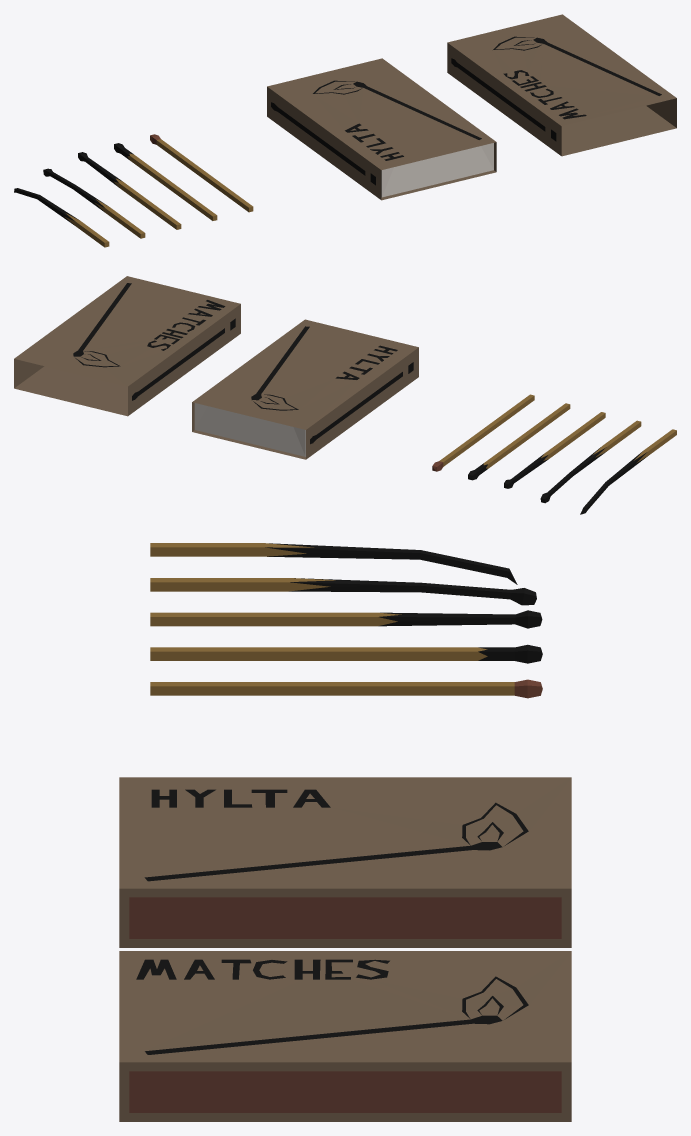
The picture shows the model from 3 angles, top to bottom: view 1: azimuth 30°, elevation 25°; view 2: azimuth 150°, elevation 25°; view 3: azimuth 270°, elevation 25°; orthographic projection. The views are drawn at different scales.
Visible parts, largest first — view 1: outside_generic_7, outside_original_0, inside_1, unused_2, burnt_1_3, burnt_2_4, burnt_3_5, burnt_4_6; view 2: outside_generic_7, outside_original_0, inside_1, unused_2, burnt_1_3, burnt_2_4, burnt_3_5, burnt_4_6; view 3: outside_original_0, outside_generic_7, burnt_1_3, unused_2, burnt_2_4, burnt_3_5, burnt_4_6.
Part boxes in pixels (x1=…): outside_generic_7: x1=447, y1=14, x2=676, y2=156; outside_original_0: x1=267, y1=58, x2=496, y2=200; inside_1: x1=381, y1=143, x2=493, y2=197; unused_2: x1=150, y1=134, x2=253, y2=212; burnt_1_3: x1=114, y1=143, x2=217, y2=220; burnt_2_4: x1=78, y1=152, x2=181, y2=229; burnt_3_5: x1=43, y1=168, x2=145, y2=238; burnt_4_6: x1=14, y1=188, x2=109, y2=247; outside_generic_7: x1=14, y1=276, x2=240, y2=416; outside_original_0: x1=192, y1=319, x2=418, y2=459; inside_1: x1=194, y1=403, x2=305, y2=456; unused_2: x1=432, y1=394, x2=534, y2=471; burnt_1_3: x1=468, y1=403, x2=570, y2=480; burnt_2_4: x1=504, y1=412, x2=605, y2=488; burnt_3_5: x1=540, y1=420, x2=641, y2=503; burnt_4_6: x1=580, y1=429, x2=676, y2=514; outside_original_0: x1=119, y1=777, x2=571, y2=947; outside_generic_7: x1=119, y1=951, x2=571, y2=1121; burnt_1_3: x1=150, y1=644, x2=542, y2=663; unused_2: x1=150, y1=679, x2=542, y2=698; burnt_2_4: x1=150, y1=610, x2=542, y2=628; burnt_3_5: x1=150, y1=578, x2=536, y2=605; burnt_4_6: x1=150, y1=543, x2=517, y2=584.
Size of the model in its own units: 0.3132 by 0.0167 by 0.11.
